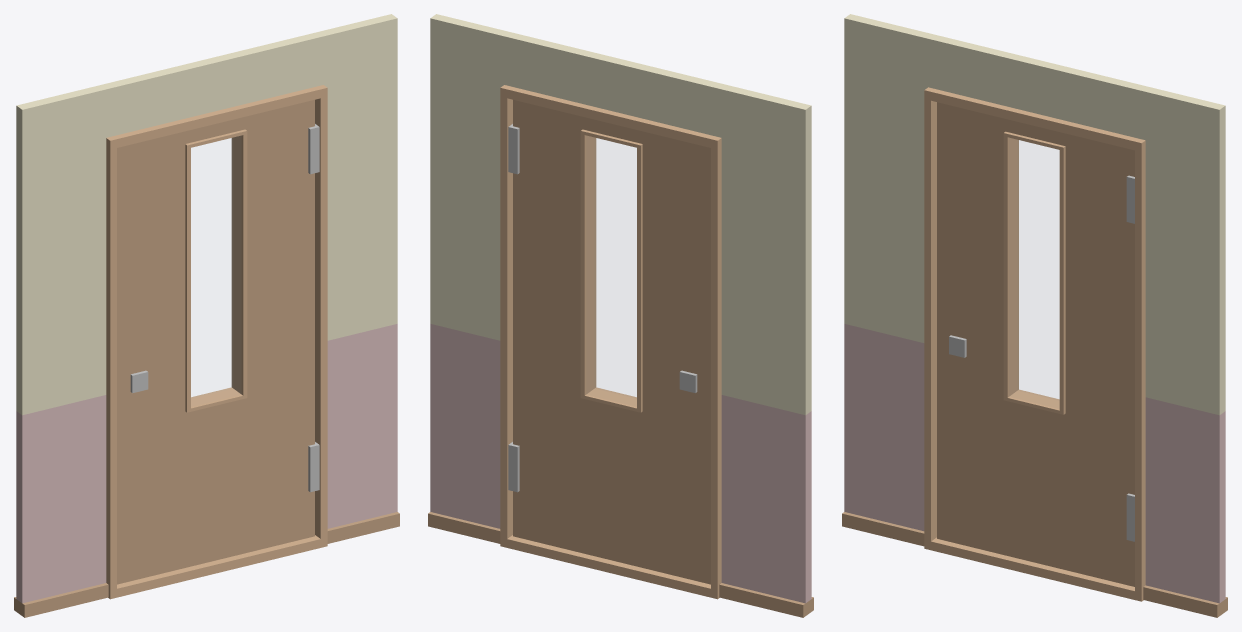
Rendered from door_1.fbx.
The picture shows the model from 3 angles, left to right: view 1: azimuth 30°, elevation 25°; view 2: azimuth 150°, elevation 25°; view 3: azimuth 330°, elevation 25°; orthographic projection.
Visible parts, largest first — view 1: Boole_2, Cube_12; view 2: Boole_2, Cube_12; view 3: Boole_2, Cube_12.
Part boxes in pixels (left/top/right/bottom): Boole_2: left=14, top=14, right=399, bottom=617; Cube_12: left=117, top=99, right=319, bottom=584; Boole_2: left=428, top=14, right=813, bottom=617; Cube_12: left=508, top=99, right=710, bottom=584; Boole_2: left=842, top=14, right=1227, bottom=617; Cube_12: left=937, top=102, right=1134, bottom=586.
Size of the model in its own units: 69.25 by 89.41 by 4.42.
